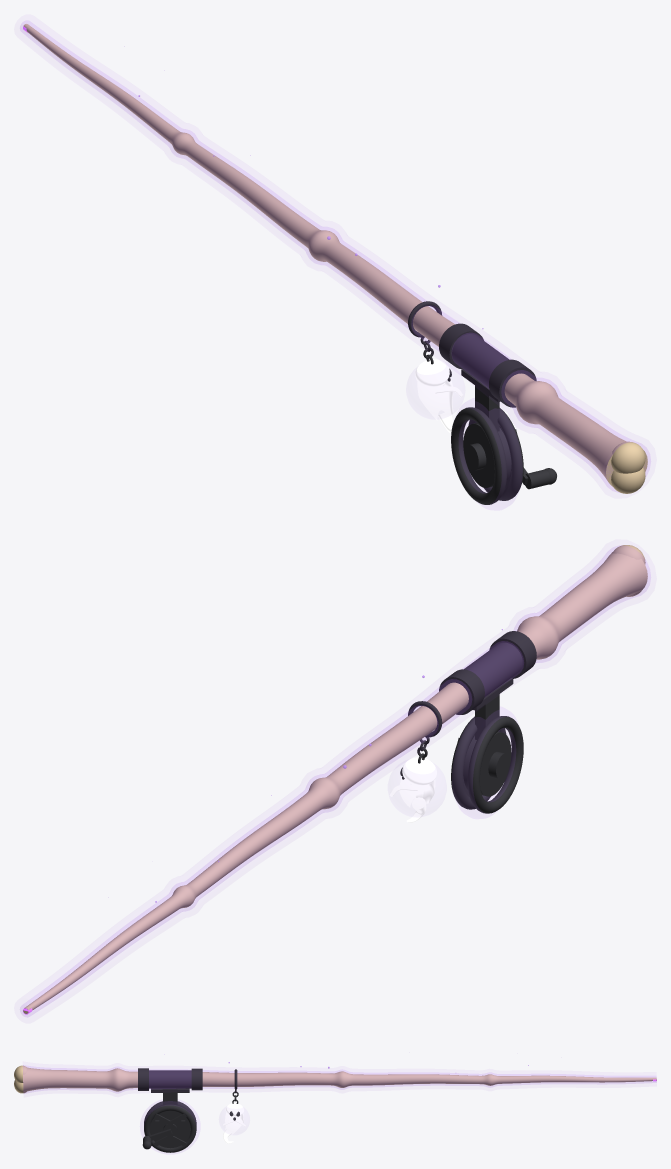
The model's file is SKIN_HAUNTED.glb.
The picture shows the model from 3 angles, top to bottom: view 1: azimuth 30°, elevation 25°; view 2: azimuth 150°, elevation 25°; view 3: azimuth 270°, elevation 25°; orthographic projection. The views are drawn at different scales.
Parts seen in each view (by area): view 1: VFX_Pulse_Aura, Handle, Reel_Rim (×2), SeatBand (×2), ReelSeat, Reel_Spool, Bone_Condyle, Ghost_Body, Ghost_HeadCap; view 2: VFX_Pulse_Aura, Handle, Reel_Rim (×2), SeatBand (×2), ReelSeat, Reel_Spool, Ghost_HeadCap; view 3: VFX_Pulse_Aura, Handle, Reel_Rim (×2), ReelSeat, Reel_Plate, SeatBand (×2), Ghost_Body, Reel_Foot, Ghost_HeadCap, Reel_FootPlate.
Boxes of the visible parts, x1,y1,x2,y2 form: VFX_Pulse_Aura: (20,21,650,491); Handle: (23,24,647,486); Reel_Rim (×2): (451,407,523,504); SeatBand (×2): (439,323,536,407); ReelSeat: (452,334,509,387); Reel_Spool: (463,423,511,487); Bone_Condyle: (611,441,645,473); Ghost_Body: (417,377,453,420); Ghost_HeadCap: (415,359,449,387); VFX_Pulse_Aura: (20,546,650,1016); Handle: (23,552,647,1013); Reel_Rim (×2): (451,716,523,813); SeatBand (×2): (439,631,536,714); ReelSeat: (464,642,522,697); Reel_Spool: (463,732,511,796); Ghost_HeadCap: (402,757,436,786); VFX_Pulse_Aura: (23,1065,656,1093); Handle: (23,1067,656,1091); Reel_Rim (×2): (144,1101,196,1152); ReelSeat: (149,1070,191,1088); Reel_Plate: (149,1110,190,1148); SeatBand (×2): (138,1068,202,1090); Ghost_Body: (225,1113,243,1134); Reel_Foot: (163,1088,177,1105); Ghost_HeadCap: (225,1103,243,1117); Reel_FootPlate: (151,1088,189,1092).
Bounding box in the file's own units: 0.506 × 1.22 × 6.95.
